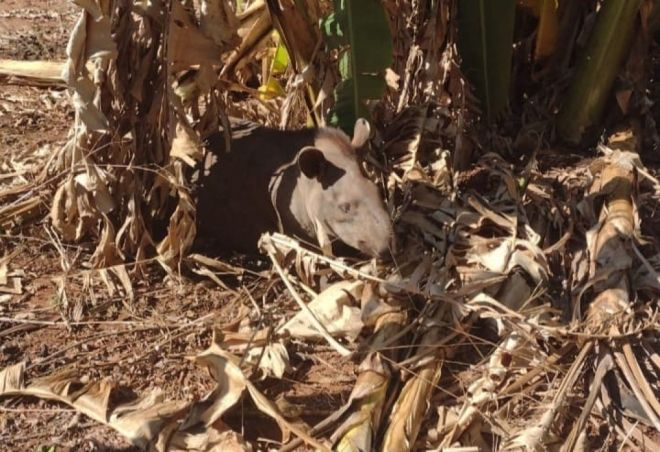Anta: (198, 111, 402, 263)
